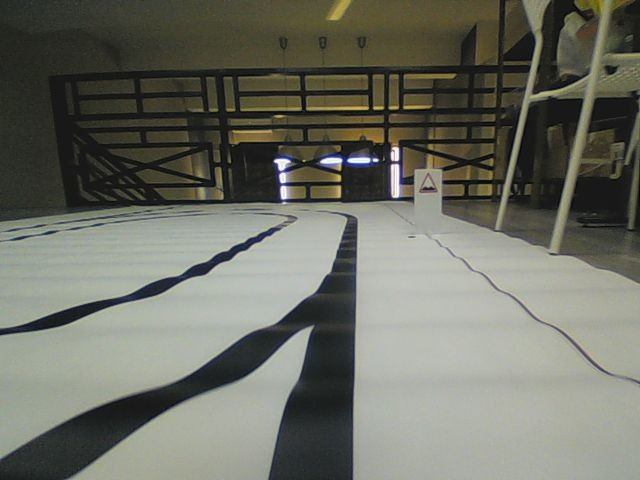Nerov: (417, 171, 439, 195)
